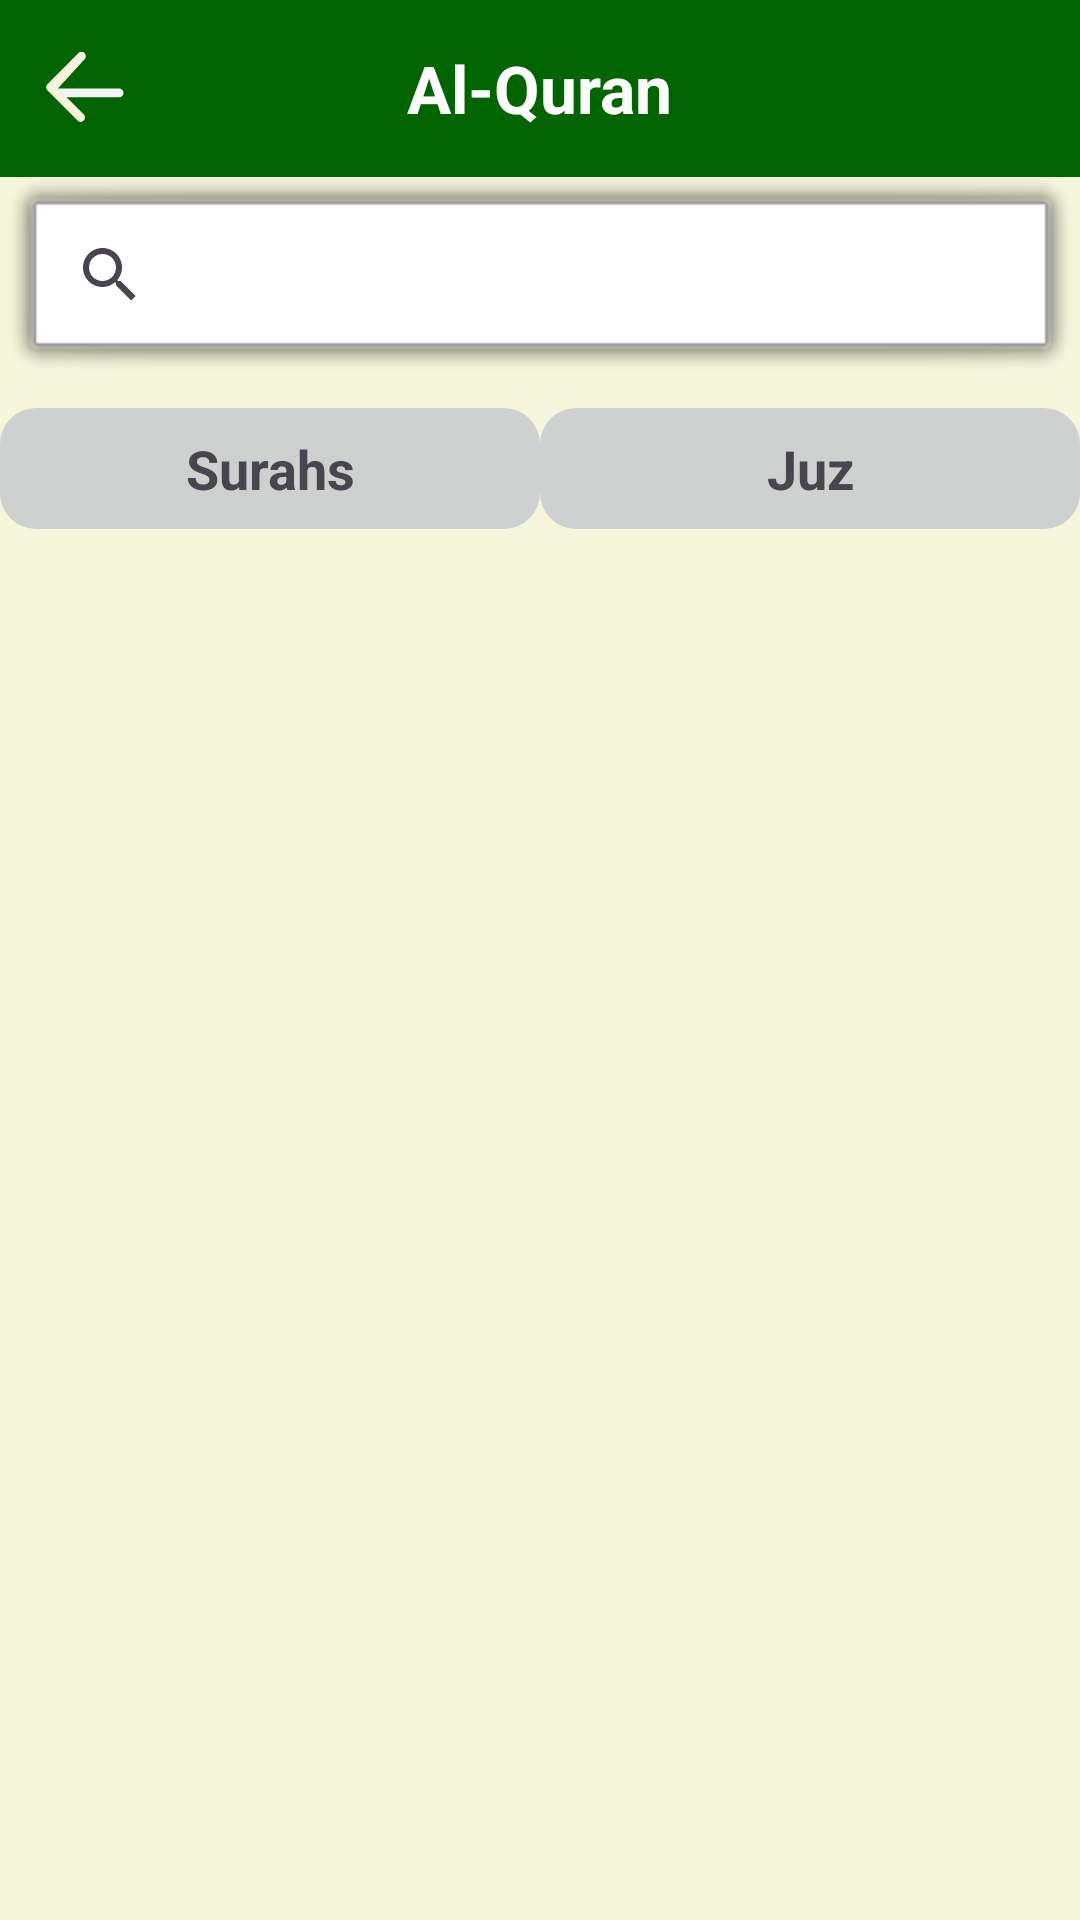

Icons on this 1080*1920 Android screen, each with the point to tap as (x,y):
Back: (85,86)
